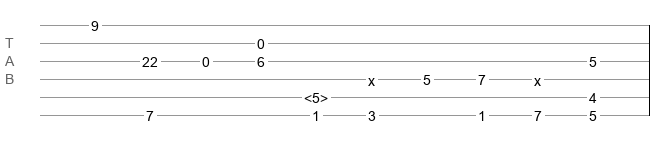0: (202, 54, 210, 64), (257, 36, 265, 46)
1: (312, 108, 320, 118), (478, 108, 486, 118)
22: (142, 54, 158, 64)
3: (368, 108, 376, 118)
4: (589, 90, 597, 100)
5: (423, 72, 431, 82), (589, 54, 597, 64), (589, 108, 597, 118)
6: (257, 54, 265, 64)
7: (146, 108, 154, 118), (478, 72, 486, 82), (534, 108, 542, 118)
9: (91, 18, 99, 28)
harmonic: (304, 90, 328, 100)
x: (368, 73, 375, 81), (534, 73, 541, 81)
